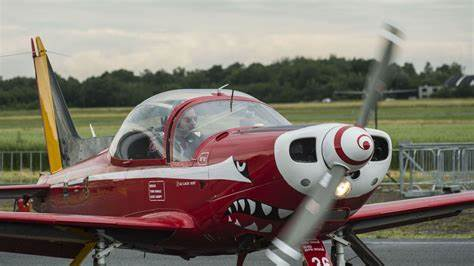Aeronef_de_loisir: (1, 25, 474, 266)
